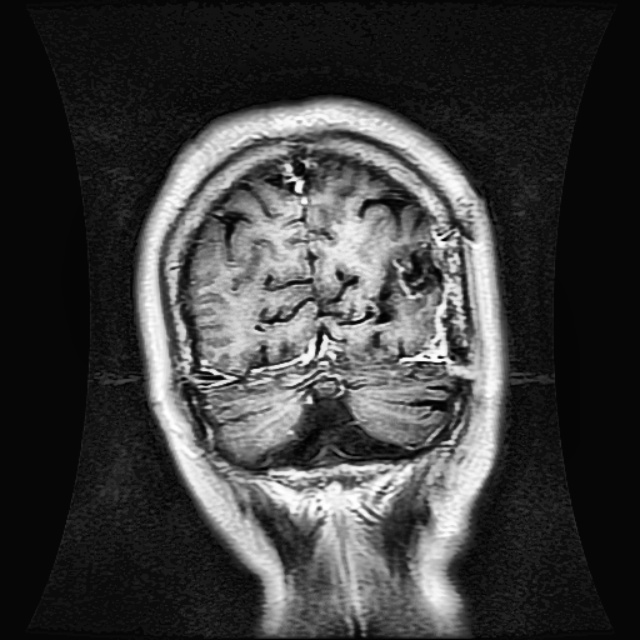Meningioma: (392, 242, 444, 300)
